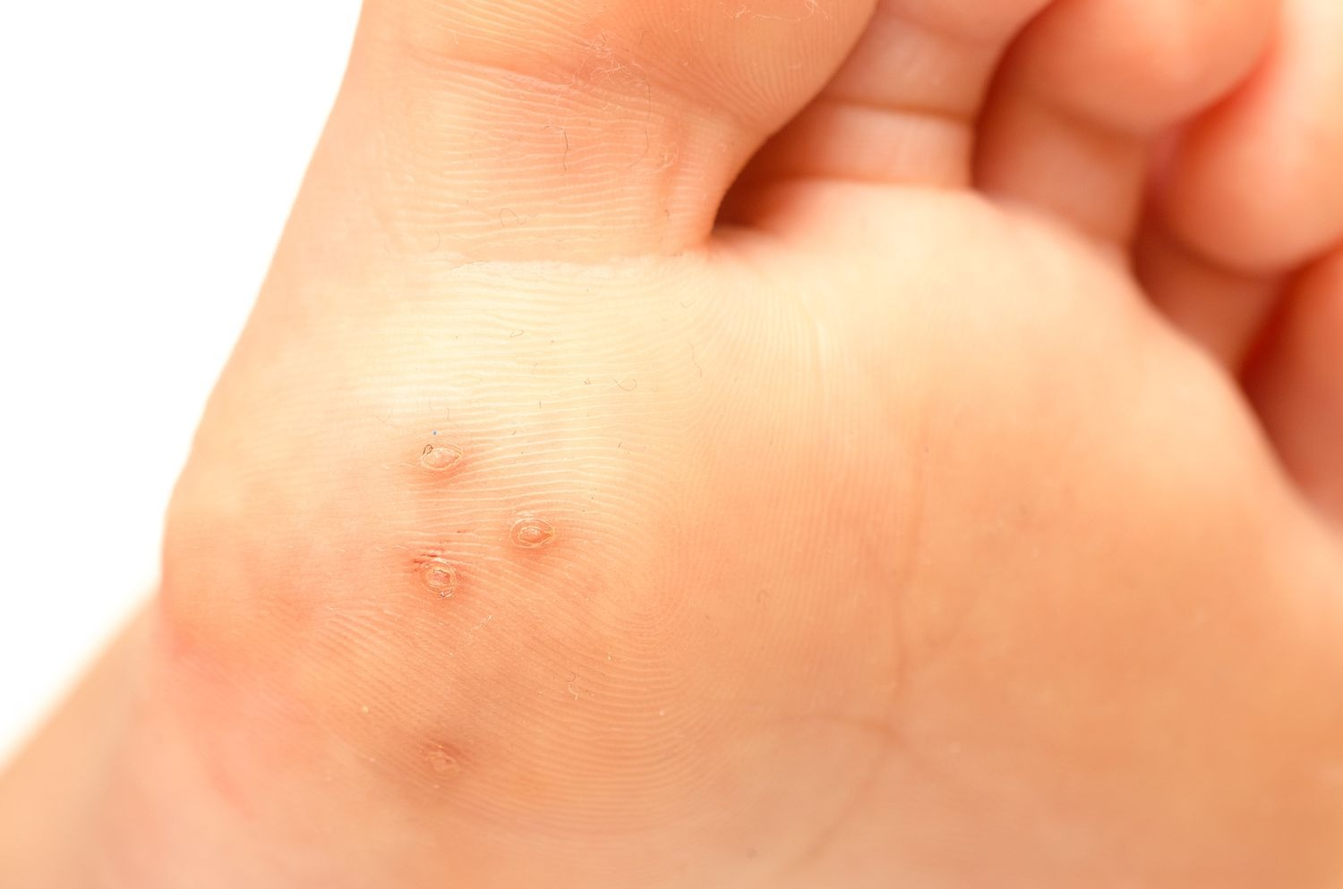Warts: (369, 424, 559, 787)
